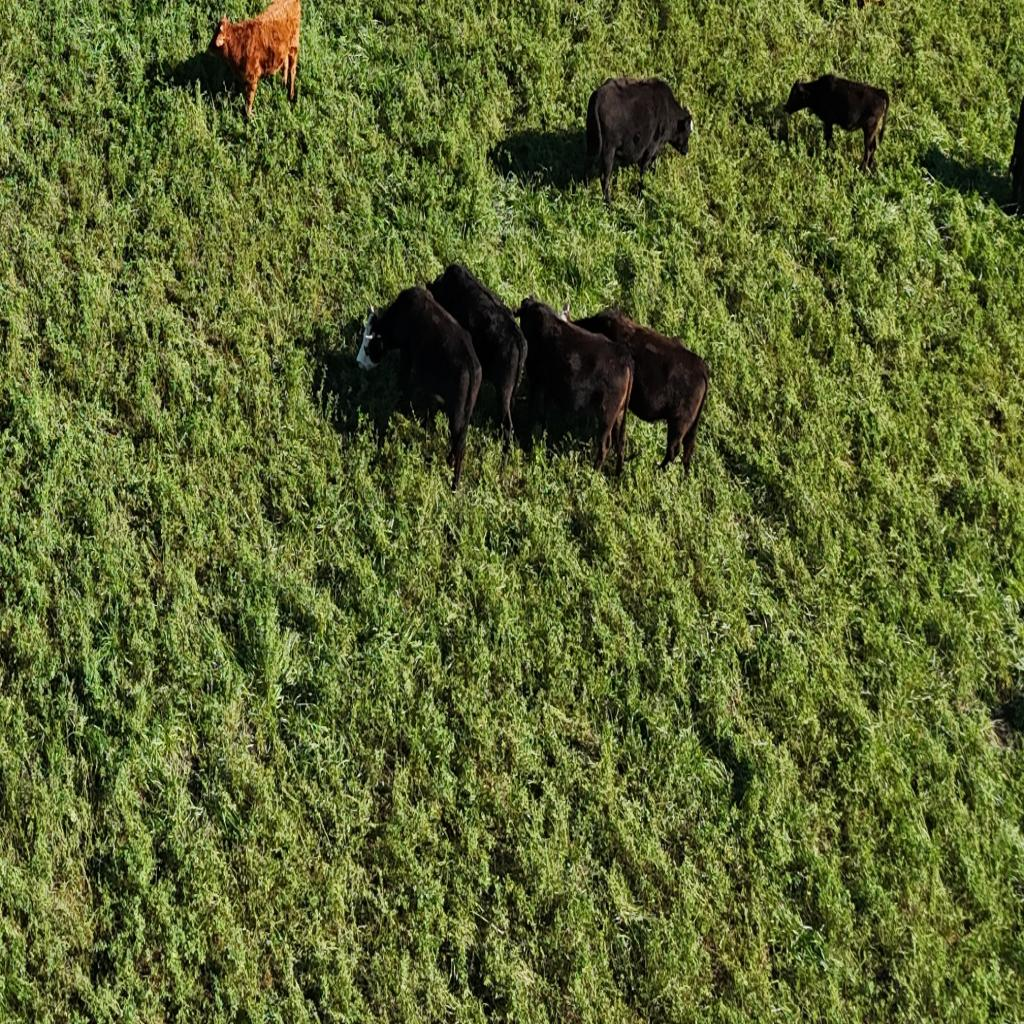cow: (357, 279, 489, 495), (510, 292, 636, 480), (577, 305, 711, 478), (430, 260, 530, 454), (582, 71, 696, 206), (181, 1, 305, 121), (782, 70, 894, 178)
